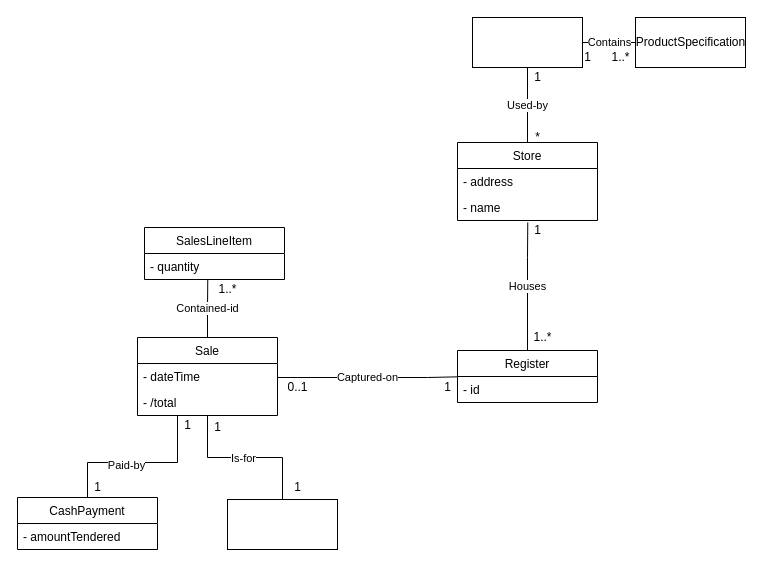
This 763x570 diagram has some shape labels left out. The shapes that lost their labels are listed below. From the top down, each one's centre as x and y in pixels, then its label:
(527,42): ProductCatalog
(282,524): Customer
